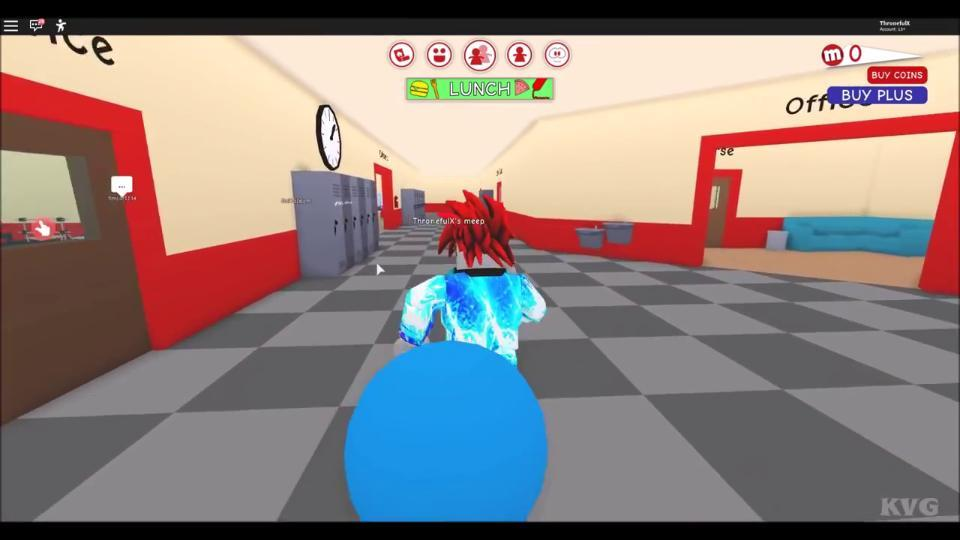Character: (394, 188, 546, 367)
